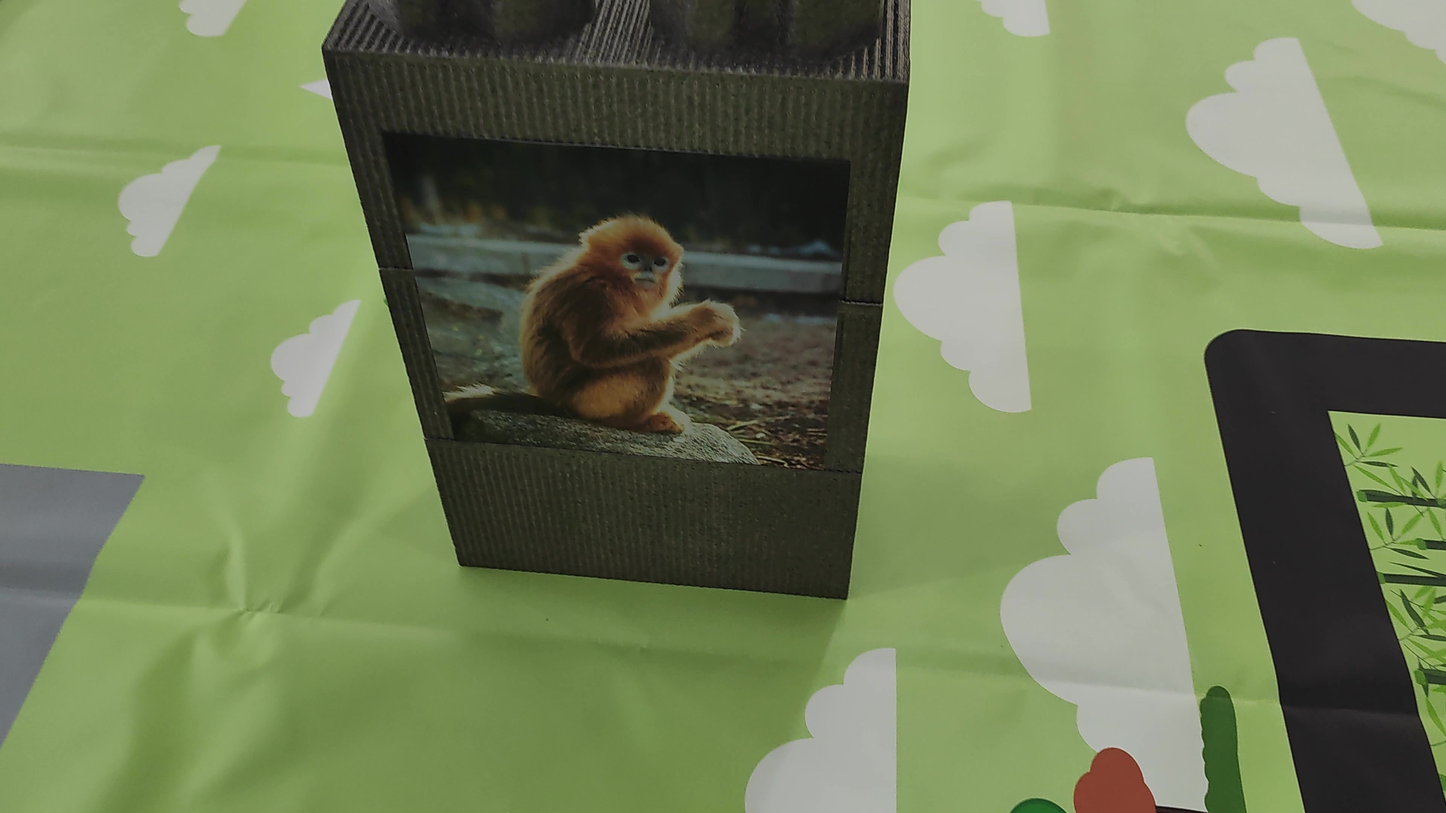monkey: (486, 199, 760, 456)
